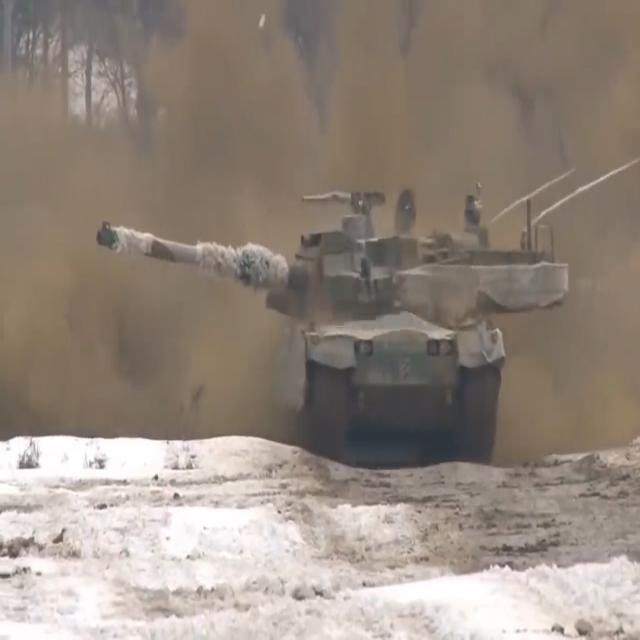korea tank: (94, 186, 570, 466)
